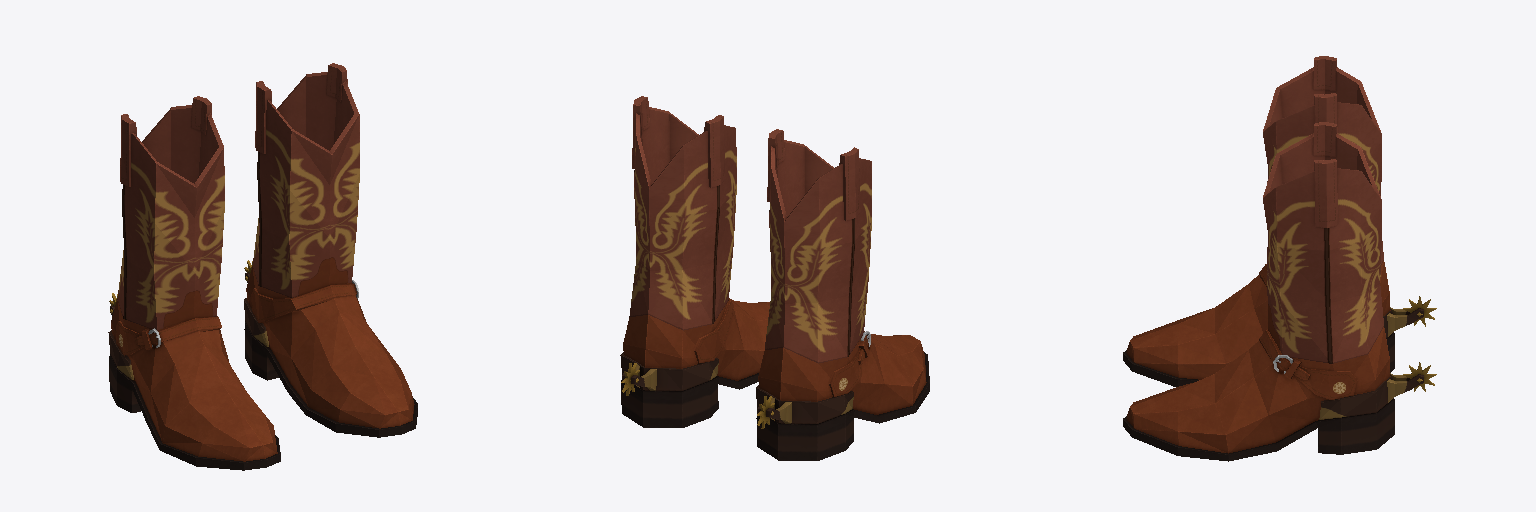
The picture shows the model from 3 angles: view 1: azimuth 30°, elevation 25°; view 2: azimuth 150°, elevation 25°; view 3: azimuth 270°, elevation 25°; orthographic projection.
Parts seen in each view (by area): view 1: CowboyBoots_Mesh; view 2: CowboyBoots_Mesh; view 3: CowboyBoots_Mesh.
Boxes of the visible parts, box(x1,y1,x2,y2) form: CowboyBoots_Mesh: box(108, 63, 417, 470); CowboyBoots_Mesh: box(620, 96, 929, 460); CowboyBoots_Mesh: box(1123, 56, 1436, 461).
Bounding box in the file's own units: 2.25 × 2.58 × 2.51.
1 materials, 1 textured.